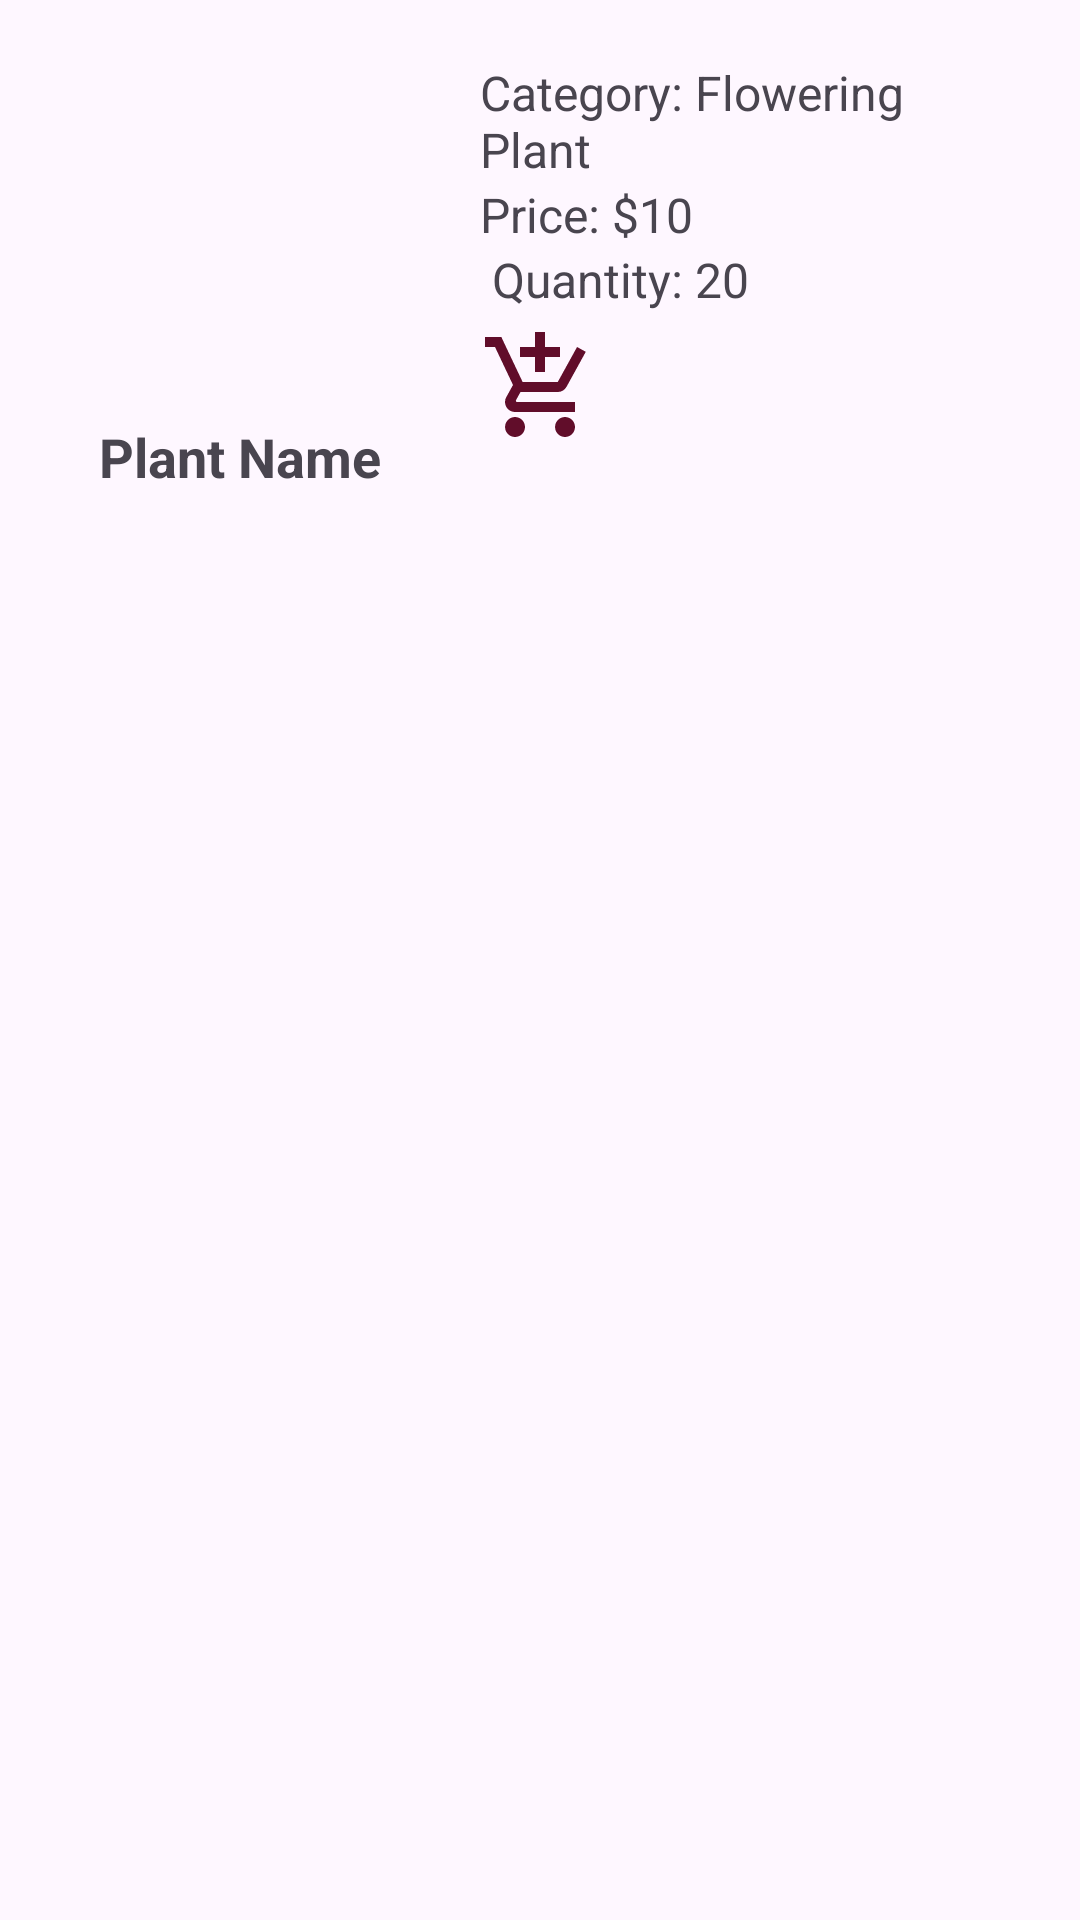

Icon click points for this 1080px×1920px phone screenshot, format (x,y):
cart: (535,384)
